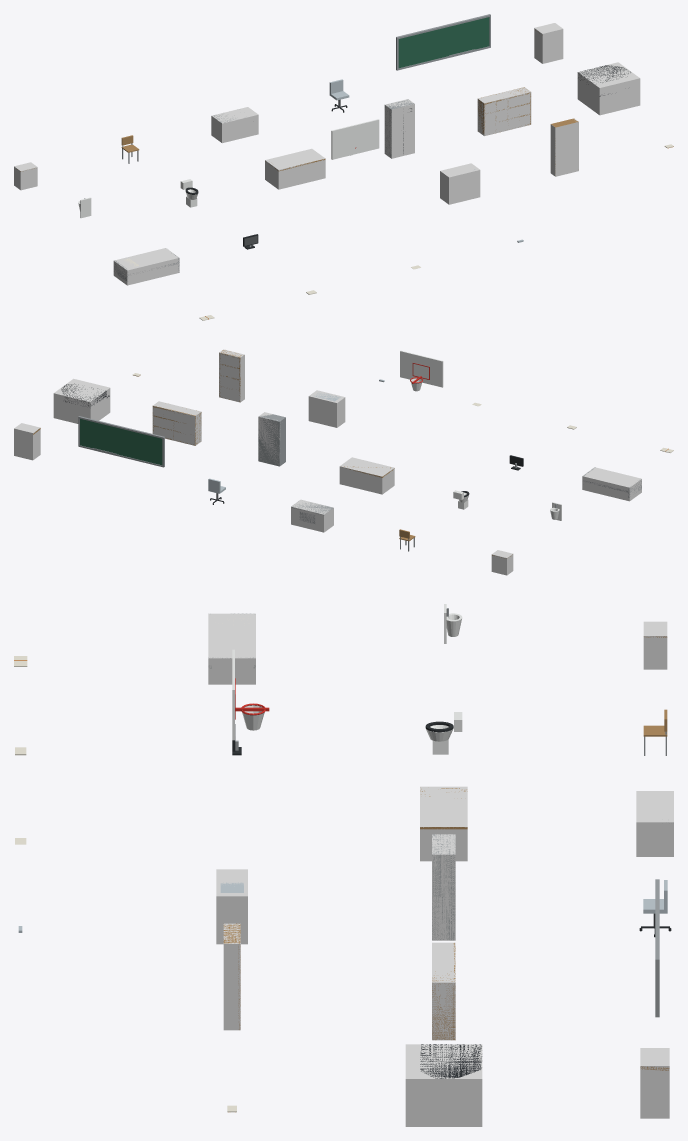
The model's file is b03_school_prop_library_preview.glb.
3 renders of one model, top to bottom at view 1: azimuth 30°, elevation 25°; view 2: azimuth 150°, elevation 25°; view 3: azimuth 270°, elevation 25°, orthographic. The views are drawn at different scales.
Parts seen in each view (by area): view 1: VIS_Prop_Blackboard, COL_Prop_GrandPiano, COL_Prop_BaggageLocker, COL_Prop_LargeWoodTable, COL_Prop_InfirmaryBed, COL_Prop_CleaningLocker, VIS_Prop_BasketballGoal, COL_Prop_Bookshelf, COL_Prop_VaultingBox, COL_Prop_StaffDesk, COL_Prop_StageLectern, COL_Prop_ClassroomDesk; view 2: VIS_Prop_Blackboard, COL_Prop_GrandPiano, COL_Prop_BaggageLocker, COL_Prop_LargeWoodTable, COL_Prop_InfirmaryBed, VIS_Prop_BasketballGoal, VIS_Prop_CleaningLocker, COL_Prop_Bookshelf, COL_Prop_VaultingBox, COL_Prop_StaffDesk, COL_Prop_StageLectern, COL_Prop_CleaningLocker (+2 smaller); view 3: COL_Prop_GrandPiano, COL_Prop_InfirmaryBed, COL_Prop_LargeWoodTable, COL_Prop_CleaningLocker, COL_Prop_StaffDesk, COL_Prop_BaggageLocker, COL_Prop_StageLectern, COL_Prop_Bookshelf, COL_Prop_VaultingBox, VIS_Prop_GrandPiano, VIS_Prop_CleaningLocker, COL_Prop_ClassroomDesk (+3 smaller).
Boxes of the visible parts, x1,y1,x2,y2 form: VIS_Prop_Blackboard: (396,14,490,70); COL_Prop_GrandPiano: (577,62,640,115); COL_Prop_BaggageLocker: (477,87,531,135); COL_Prop_LargeWoodTable: (265,148,325,189); COL_Prop_InfirmaryBed: (113,248,179,285); COL_Prop_CleaningLocker: (384,99,414,158); VIS_Prop_BasketballGoal: (331,119,379,159); COL_Prop_Bookshelf: (550,118,578,176); COL_Prop_VaultingBox: (440,163,480,204); COL_Prop_StaffDesk: (211,107,258,143); COL_Prop_StageLectern: (534,23,563,63); COL_Prop_ClassroomDesk: (14,162,37,190); VIS_Prop_Blackboard: (78,416,164,467); COL_Prop_GrandPiano: (53,378,110,423); COL_Prop_BaggageLocker: (152,401,201,445); COL_Prop_LargeWoodTable: (339,457,394,494); COL_Prop_InfirmaryBed: (582,467,641,501); VIS_Prop_BasketballGoal: (400,350,443,391); VIS_Prop_CleaningLocker: (258,414,285,466); COL_Prop_Bookshelf: (219,349,244,402); COL_Prop_VaultingBox: (308,390,345,427); COL_Prop_StaffDesk: (291,499,333,532); COL_Prop_StageLectern: (14,423,40,460); COL_Prop_CleaningLocker: (258,412,280,464); COL_Prop_GrandPiano: (405,1044,482,1126); COL_Prop_InfirmaryBed: (208,613,255,684); COL_Prop_LargeWoodTable: (420,786,467,861); COL_Prop_CleaningLocker: (432,834,455,940); COL_Prop_StaffDesk: (636,791,673,856); COL_Prop_BaggageLocker: (432,942,455,1040); COL_Prop_StageLectern: (640,1048,669,1118); COL_Prop_Bookshelf: (223,923,240,1030); COL_Prop_VaultingBox: (216,869,247,944); VIS_Prop_GrandPiano: (420,1044,482,1078); VIS_Prop_CleaningLocker: (432,834,455,940); COL_Prop_ClassroomDesk: (643,621,667,669).
Size of the model in its own units: 21.77 by 3.57 by 12.48.
